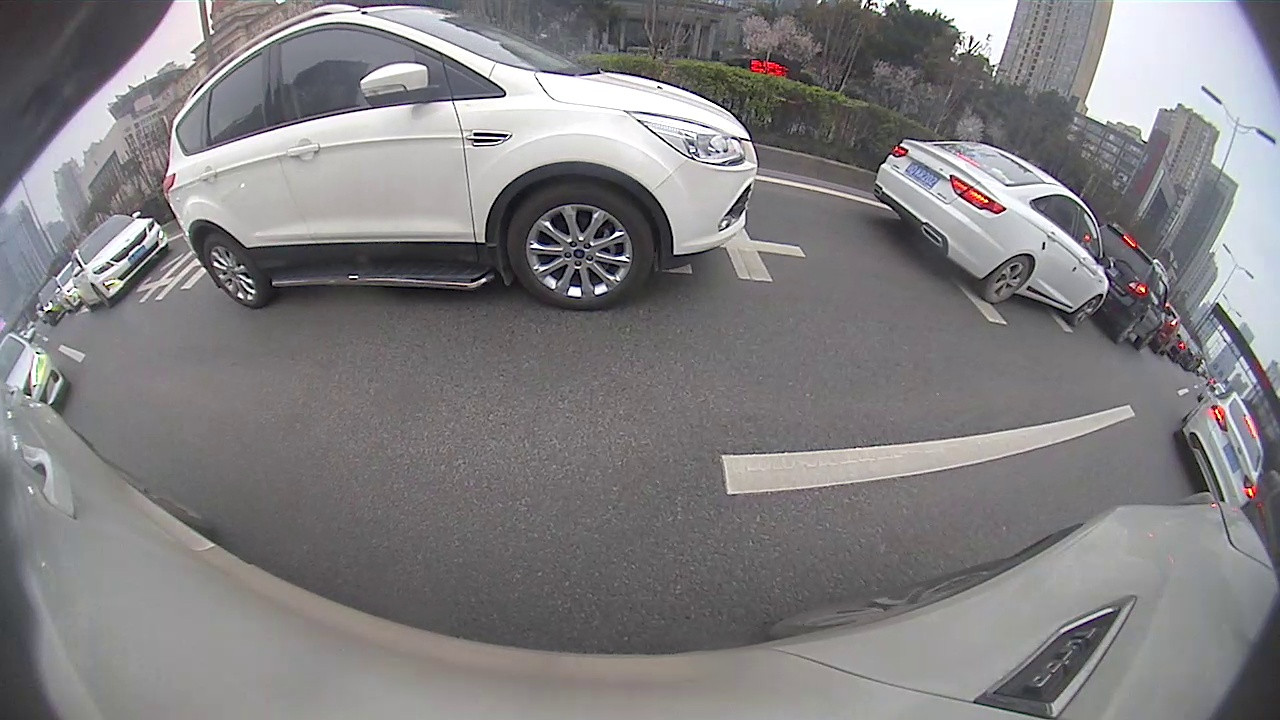car: (158, 4, 759, 311), (871, 137, 1109, 327), (1178, 388, 1266, 511), (68, 212, 170, 314), (1099, 221, 1170, 351), (1, 332, 72, 411)
front: (506, 181, 658, 312), (1070, 291, 1104, 329)
rear: (199, 230, 275, 310), (976, 253, 1033, 307)
